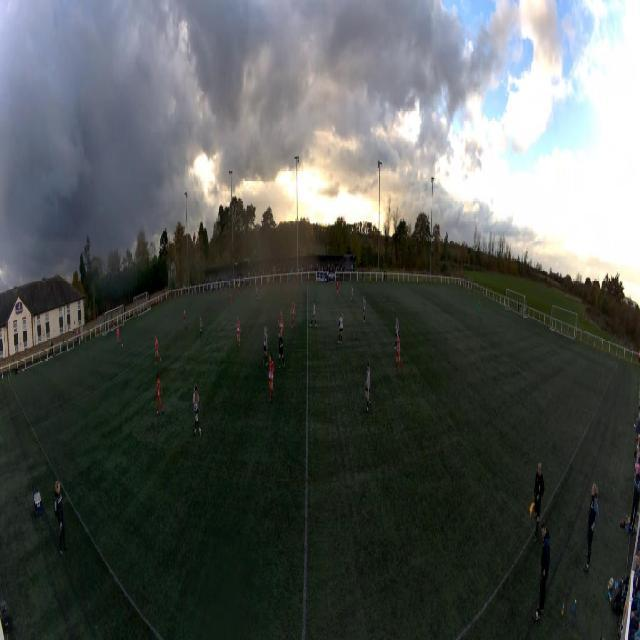ball: (122, 345, 123, 347)
player: (192, 384, 201, 434), (155, 374, 164, 416), (364, 361, 371, 409), (394, 336, 403, 372), (277, 329, 285, 369), (268, 354, 274, 400), (310, 300, 317, 329), (155, 334, 161, 366), (338, 311, 344, 343), (263, 327, 268, 364), (277, 312, 284, 338), (290, 301, 296, 328), (236, 316, 241, 348), (394, 317, 399, 347), (362, 296, 366, 322), (199, 314, 203, 338), (335, 282, 339, 298), (351, 285, 354, 306), (183, 308, 186, 329), (478, 300, 481, 318), (117, 326, 120, 344), (256, 286, 258, 304), (229, 292, 231, 308)
